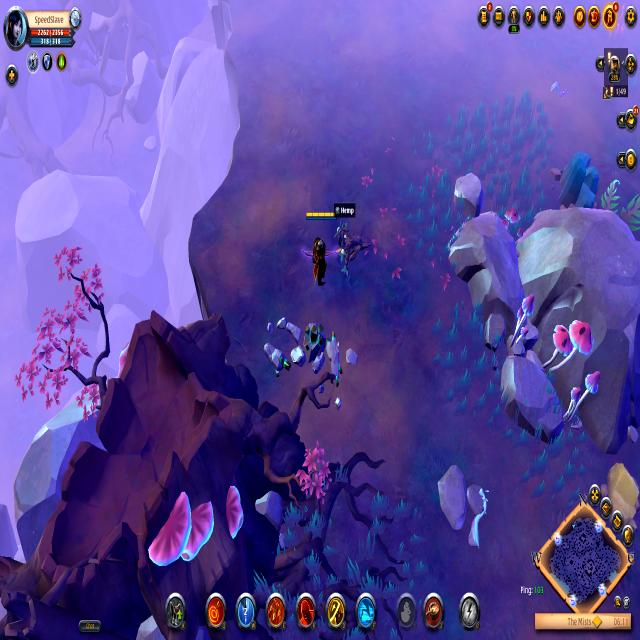hide: (330, 199, 378, 276)
player: (260, 301, 358, 410)
red: (302, 204, 336, 293)
tree: (559, 148, 607, 211)
